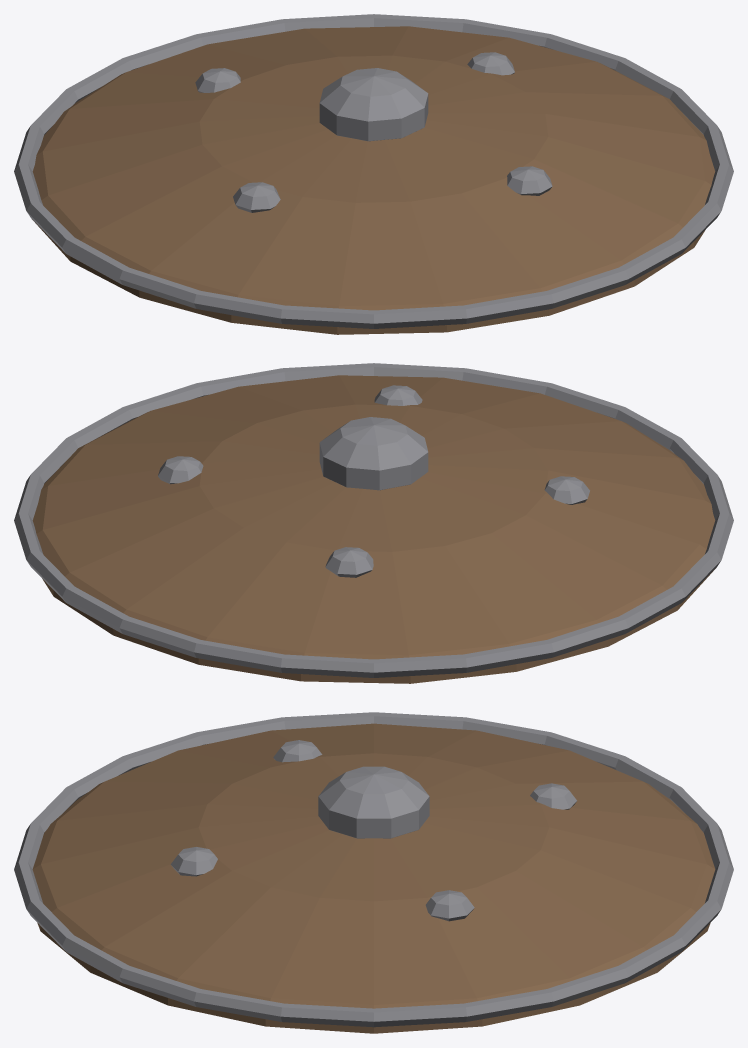
Rendered from round_shield.glb.
The picture shows the model from 3 angles, top to bottom: view 1: azimuth 30°, elevation 25°; view 2: azimuth 150°, elevation 25°; view 3: azimuth 270°, elevation 25°; orthographic projection.
Visible parts, largest first — view 1: Round_Shield; view 2: Round_Shield; view 3: Round_Shield.
Part boxes in pixels (x1=…): Round_Shield: x1=14, y1=14, x2=733, y2=334; Round_Shield: x1=14, y1=363, x2=733, y2=683; Round_Shield: x1=14, y1=712, x2=733, y2=1033.
Bounding box in the file's own units: 0.616 × 0.105 × 0.616.
